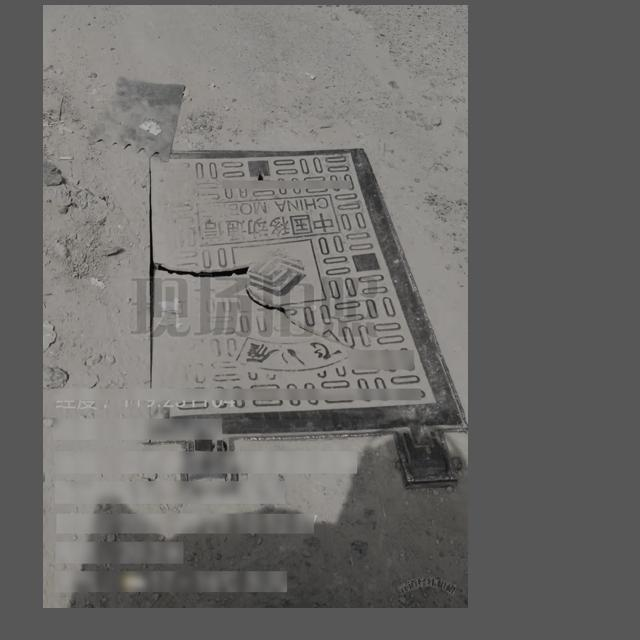broke: (140, 146, 468, 495)
